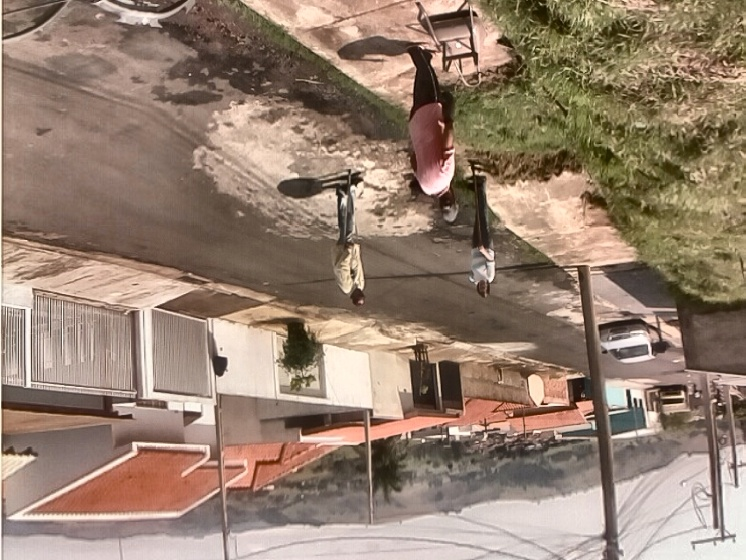person: (405, 43, 459, 223), (331, 175, 366, 307), (463, 175, 496, 299)
